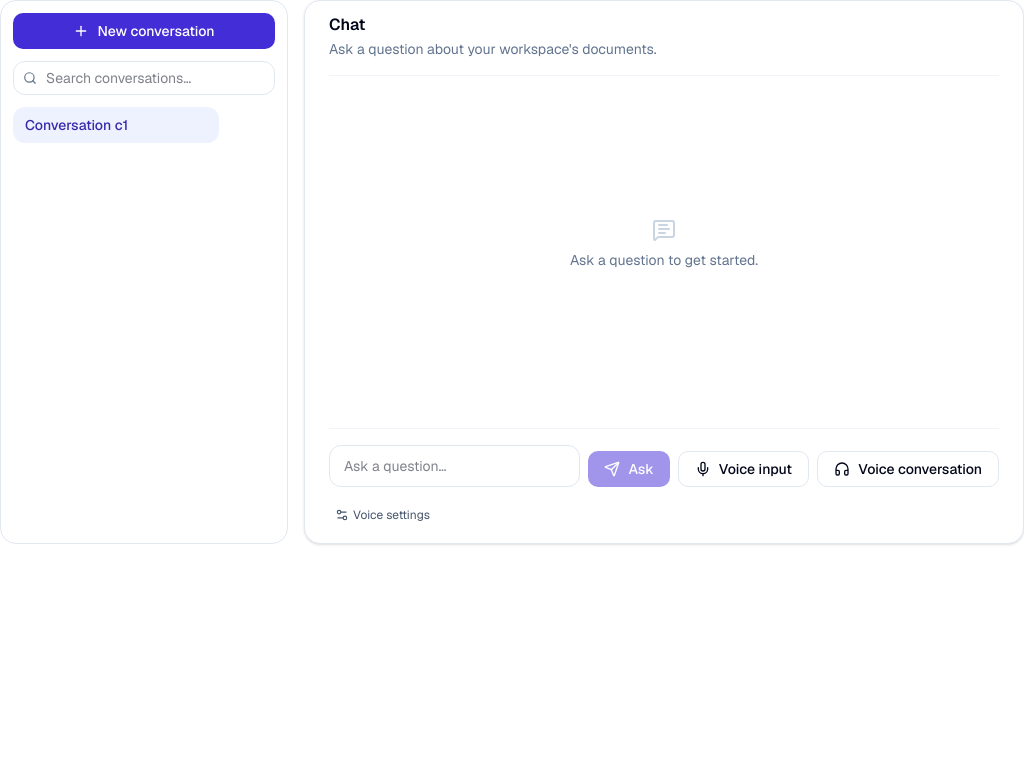
Test: ChatPage › dictates: the transcript lands in the editable box and is NOT sent until the user presses Ask
The image size is (1024, 768).
Expected: the text "Ask a question to get started." is shown, [570, 250, 758, 270]
Step 1. Click the button "Voice input" → (743, 469), box [678, 451, 809, 487]
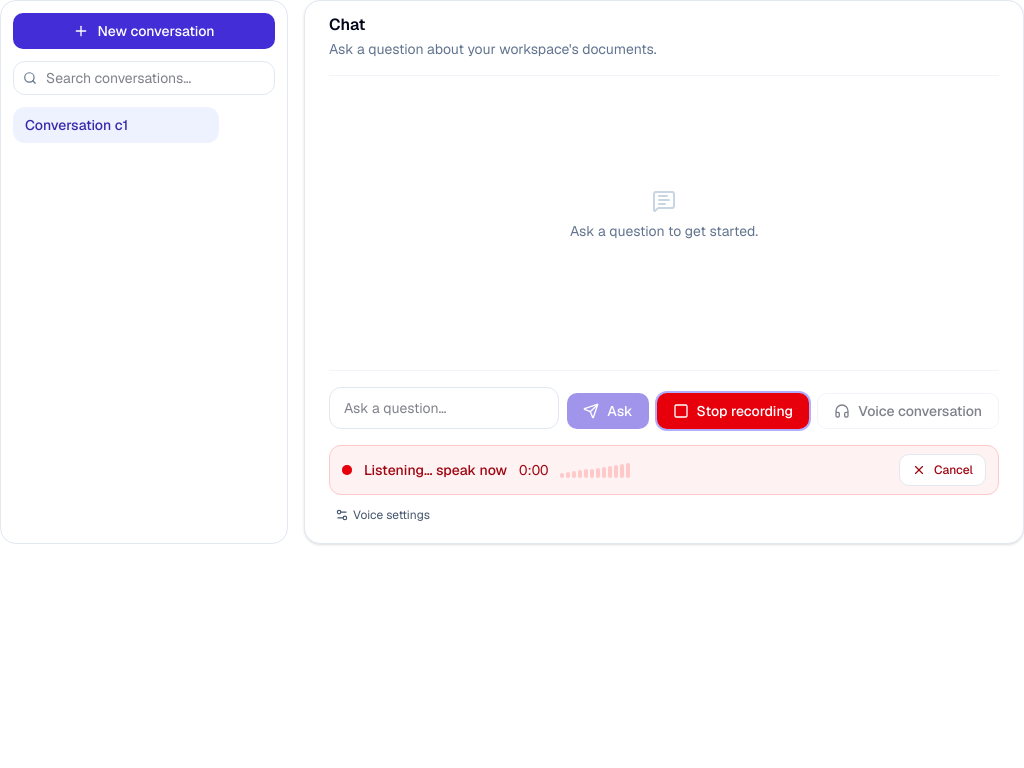
Expected: the button "Ask" is disabled, [567, 393, 649, 429]
Expected: the text "Listening… speak now" is shown, [364, 460, 507, 480]
Step 2. Click the button "Stop recording" → (733, 411), box [657, 393, 809, 429]
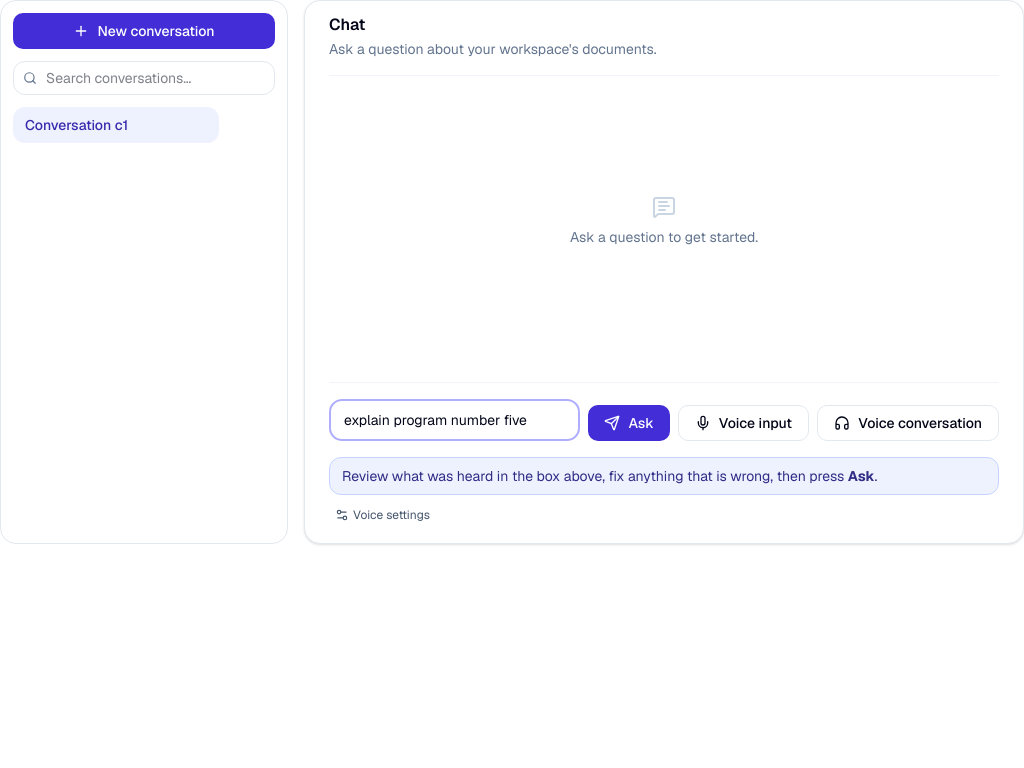
Expected: the field named "Ask a question" holds "explain program number five"
Expected: the text "Review what was heard" is shown, [342, 467, 848, 485]
# The user corrects the transcript, then asks.
Step 3. Clear the field named "Ask a question" → (455, 420), box [329, 399, 580, 441]
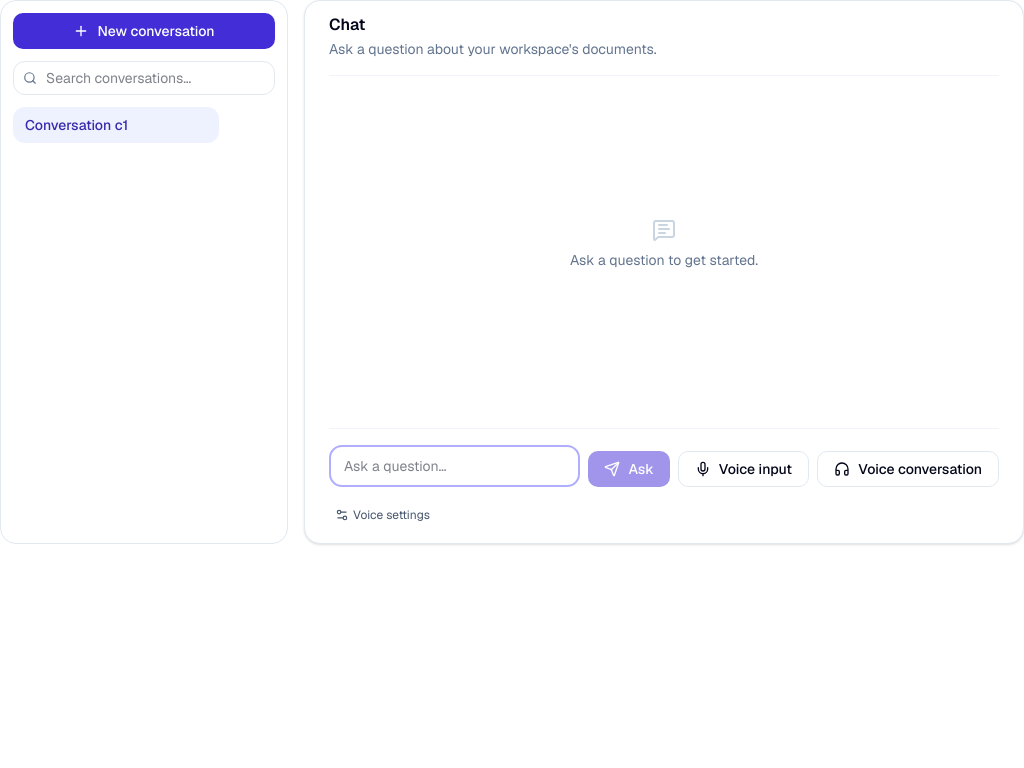
Step 4. Type "Explain program number 5" into the field labelled "Ask a question" → (455, 466), box [329, 445, 580, 487]
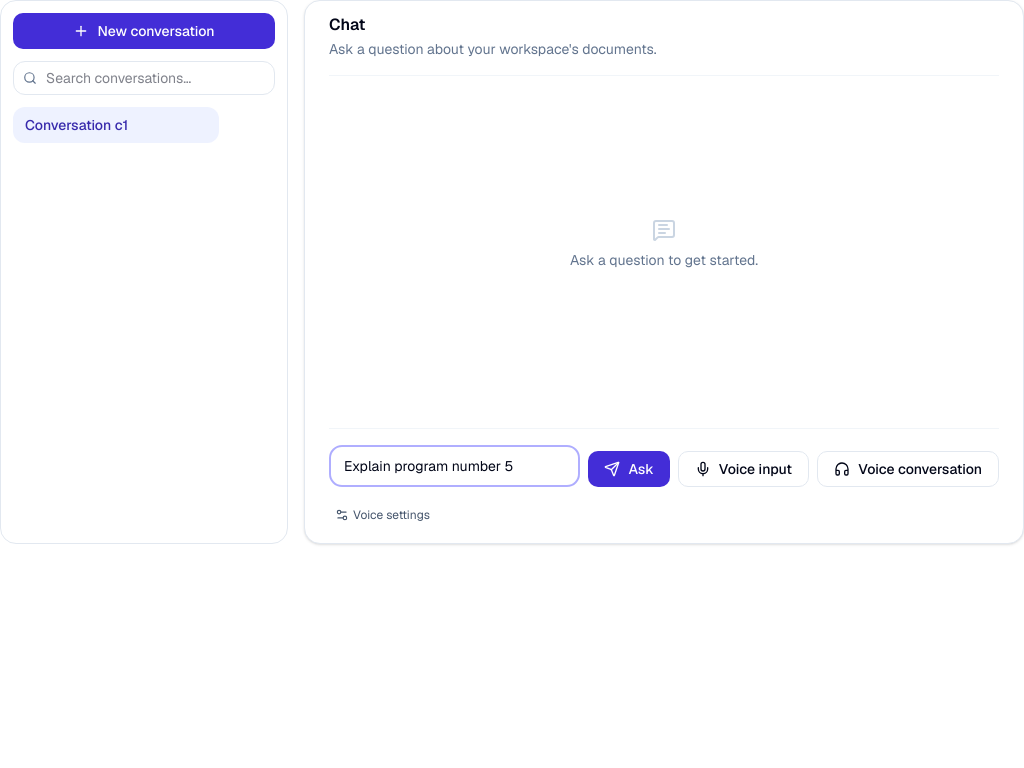
Expected: the text "Review what was heard" is not shown
Step 5. Click the button "Ask" → (629, 469), box [588, 451, 670, 487]
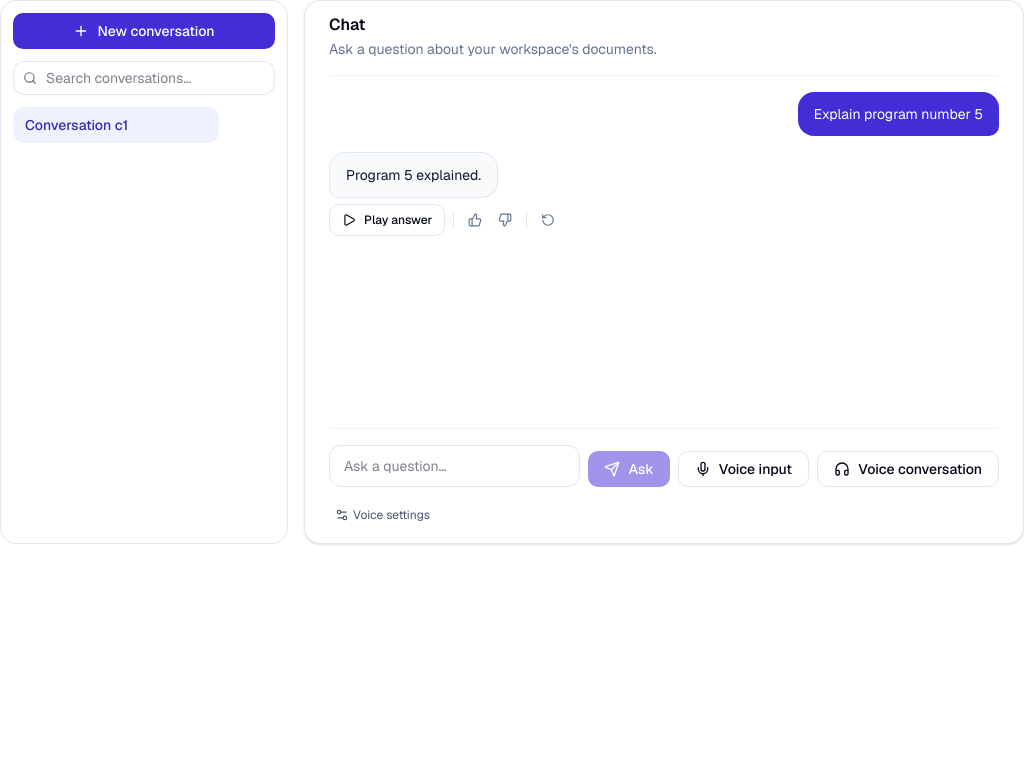
Expected: the text "Program 5 explained." is shown, [346, 163, 481, 187]
